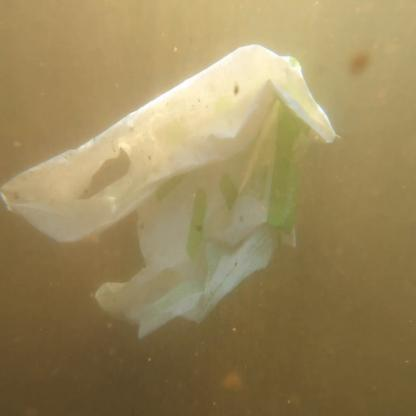Rác: (0, 43, 344, 334)
